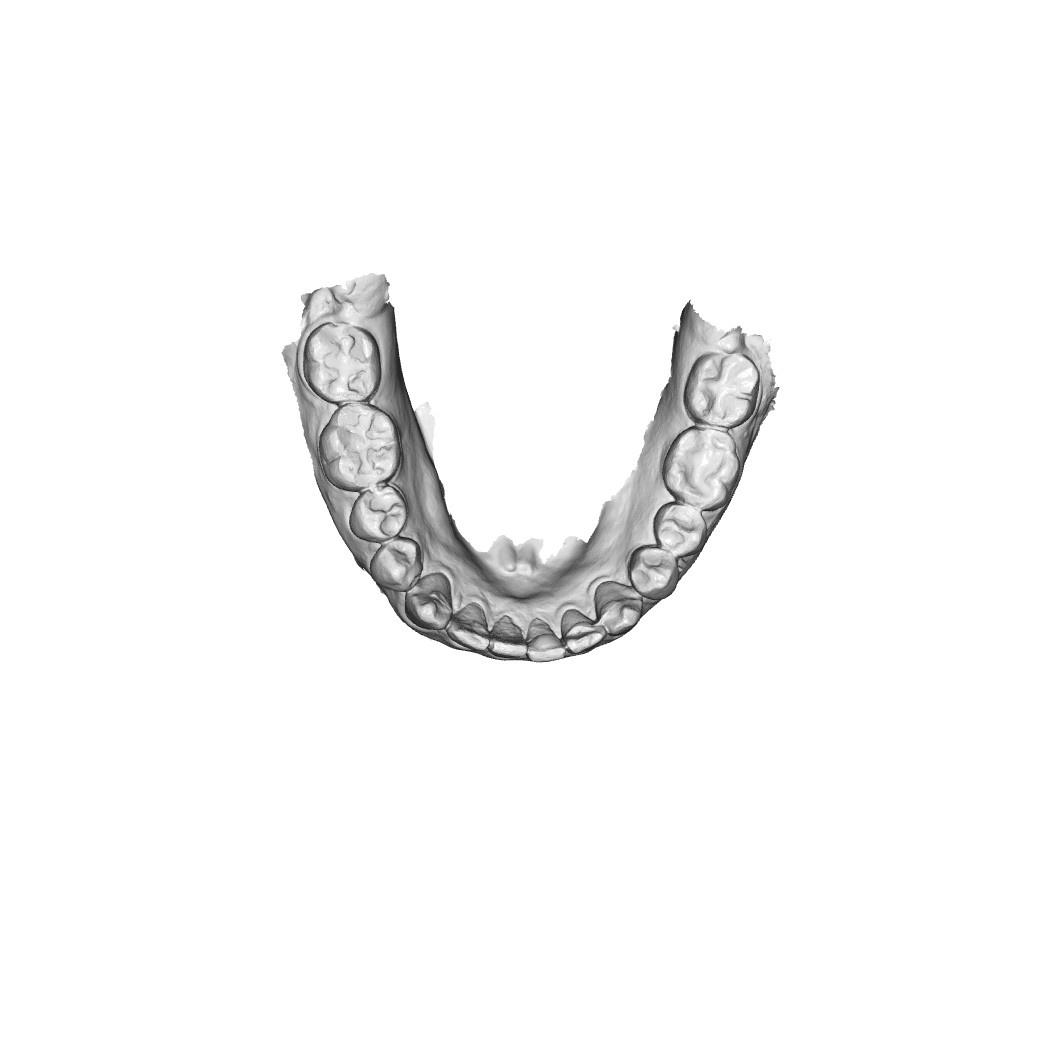canine: (591, 578, 643, 636), (400, 576, 452, 630)
incisor: (447, 600, 491, 649), (561, 611, 606, 655), (487, 615, 530, 657), (525, 616, 564, 660)
molar: (315, 402, 403, 490), (305, 320, 383, 403), (666, 427, 741, 505), (691, 350, 763, 427)
premolar: (350, 484, 407, 541), (654, 501, 710, 555), (369, 539, 425, 592), (629, 546, 682, 598)
